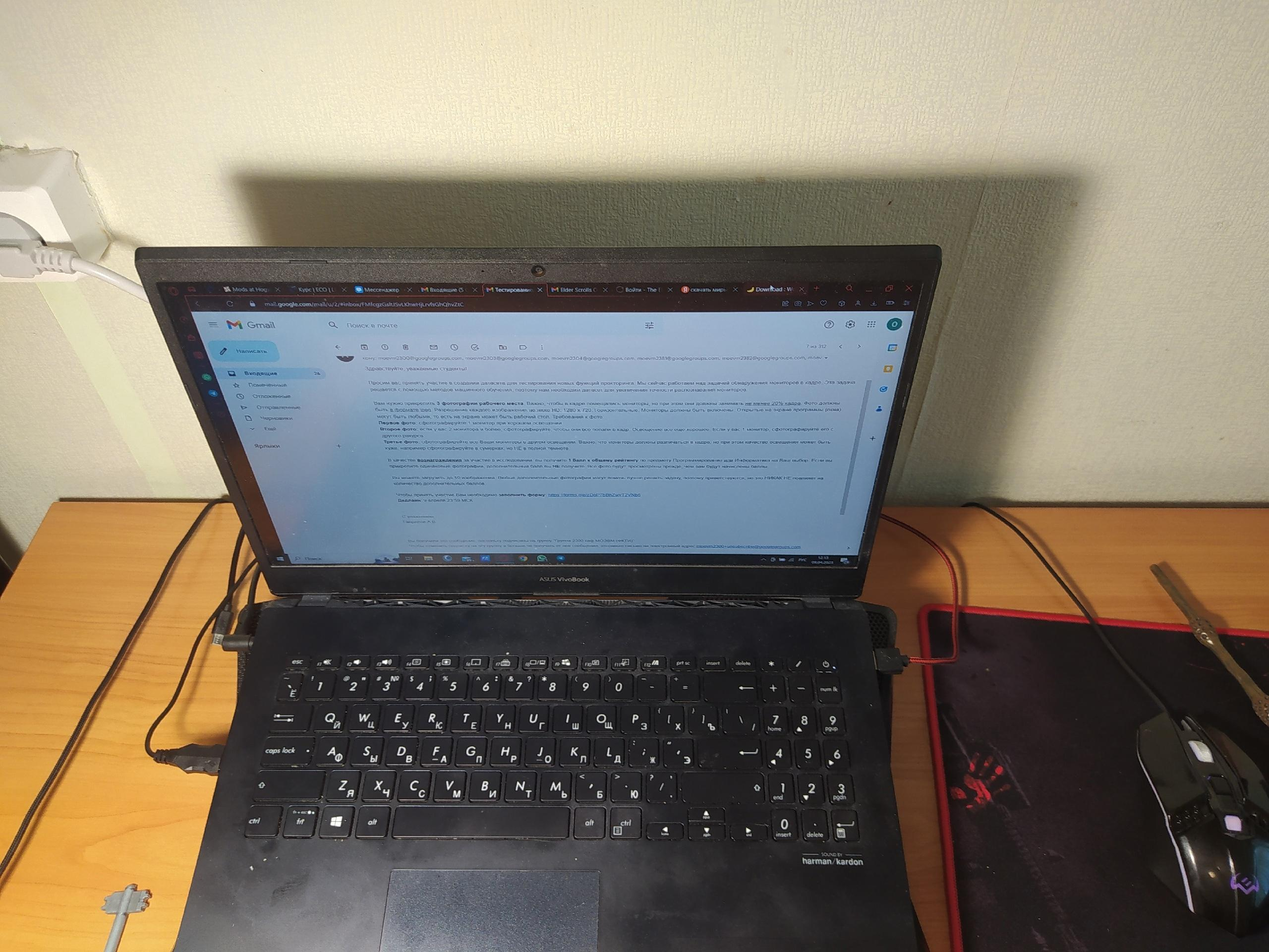monitor: (139, 236, 947, 603)
